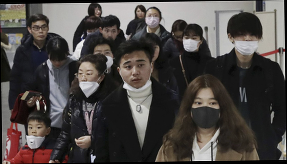mask_weared_incorrect: (120, 56, 153, 88), (78, 67, 100, 92), (27, 122, 47, 142)
with_mask: (188, 94, 222, 131), (232, 29, 260, 58), (93, 47, 116, 71), (182, 32, 201, 53), (145, 11, 161, 30)
without_mask: (30, 22, 50, 41), (101, 26, 119, 42), (49, 56, 67, 68), (173, 30, 186, 44), (135, 8, 146, 20), (93, 6, 103, 17)
